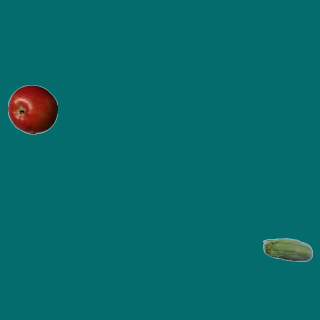Apple Braeburn: (7, 84, 57, 134)
Corn Husk: (262, 226, 312, 276)
